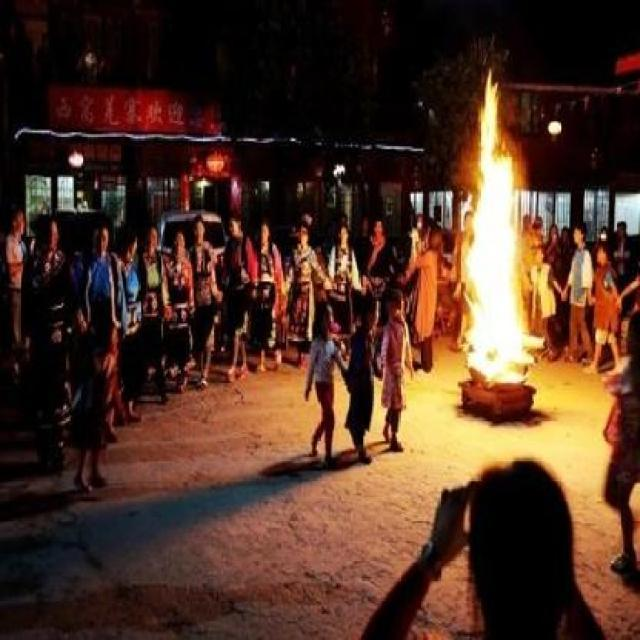Fire: (462, 49, 542, 397)
